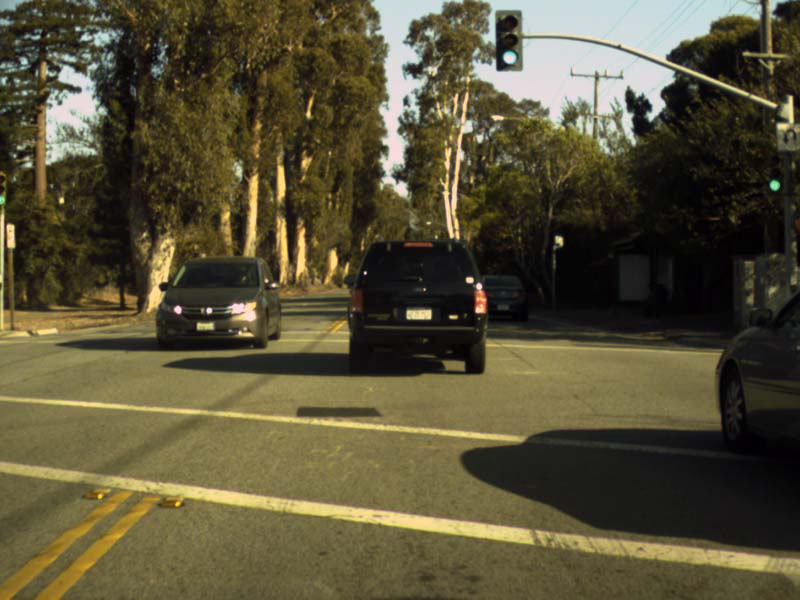Green: (495, 10, 522, 70), (767, 155, 780, 193)
